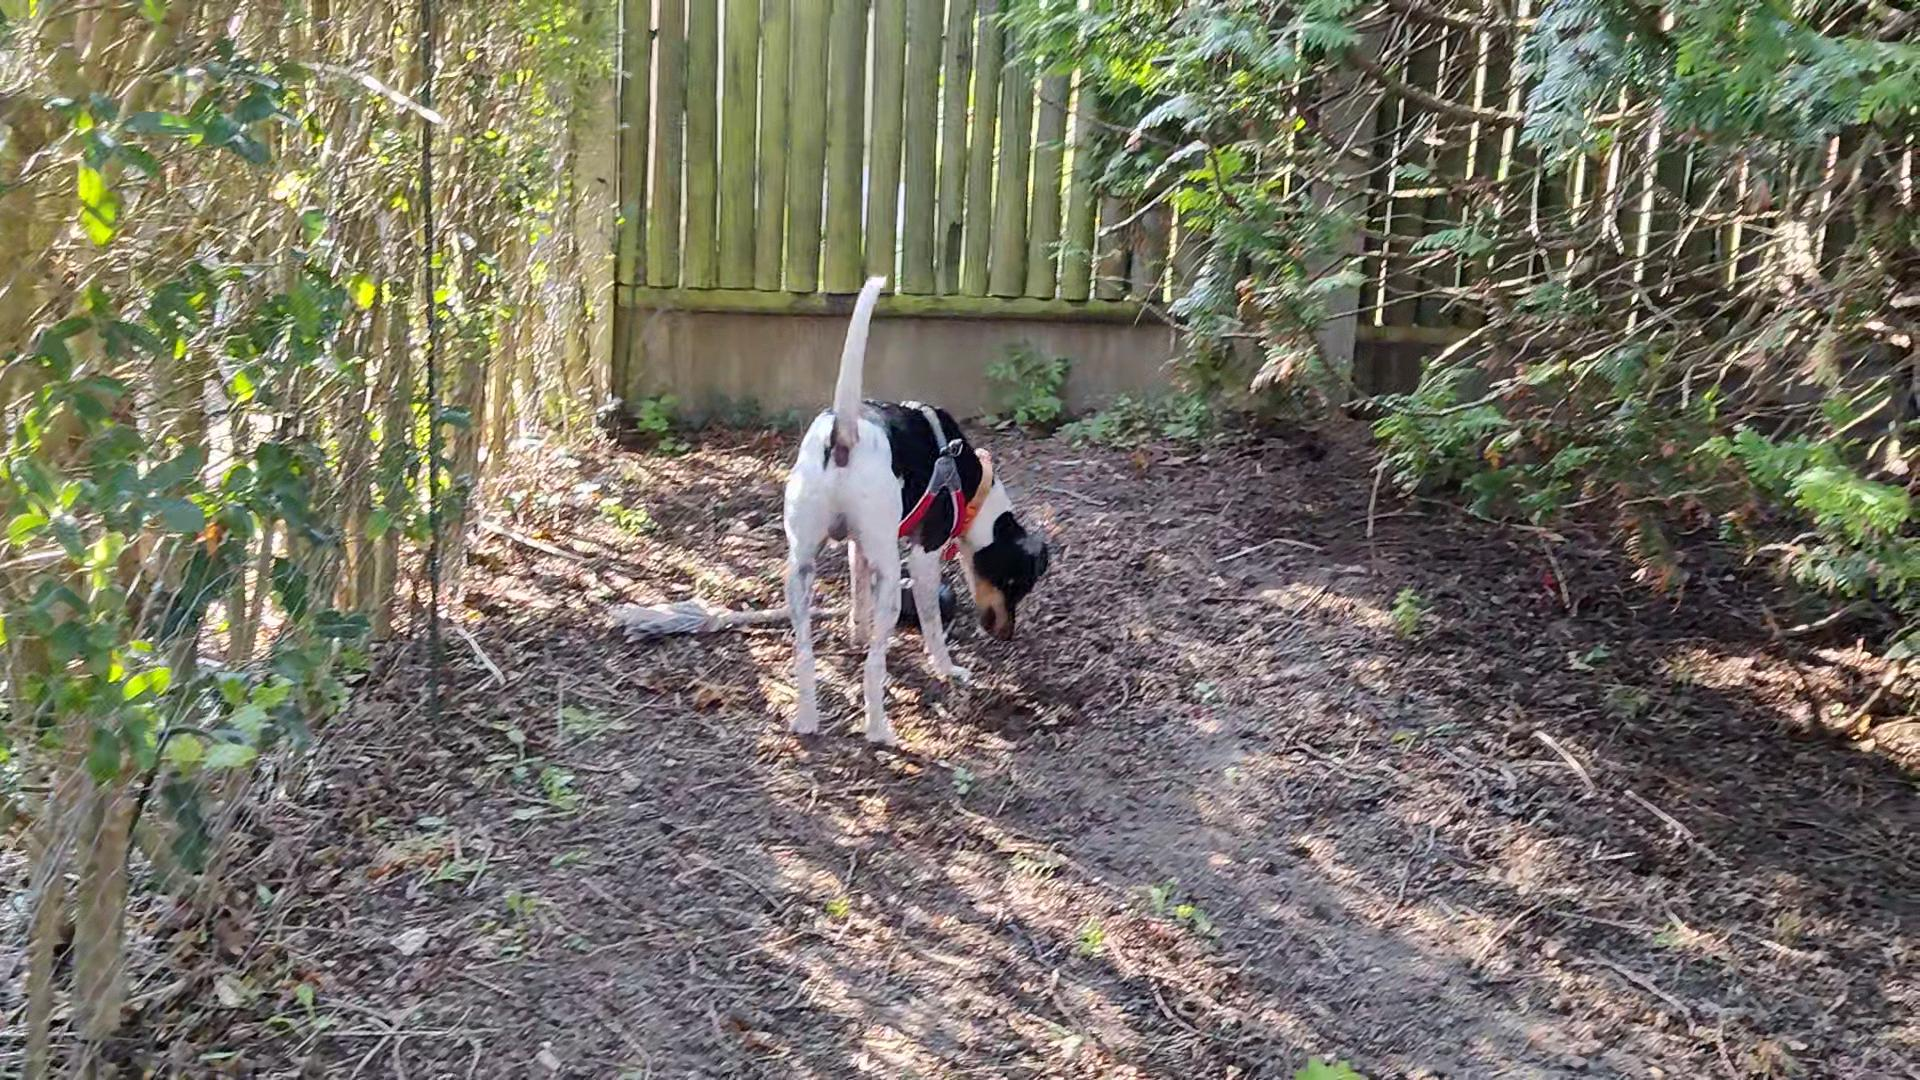Dog: (756, 251, 1069, 775)
